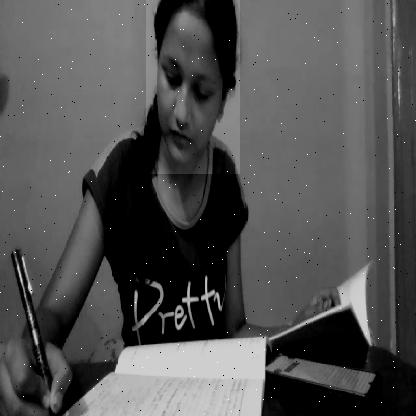Normal: (146, 0, 240, 174)
